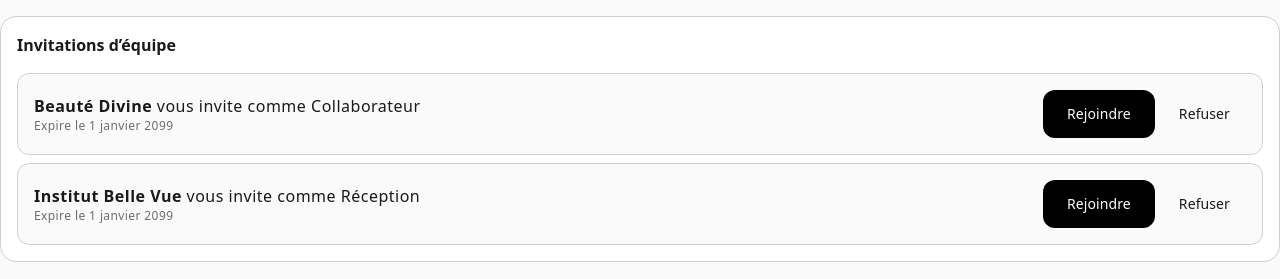
it: ProInvitationsCard › accept 404 not_found removes that card only; the others stay
Click the button "Rejoindre" in the row of "Beauté Divine" at (1099, 114), box x1=1043 y1=90 x2=1155 y2=138
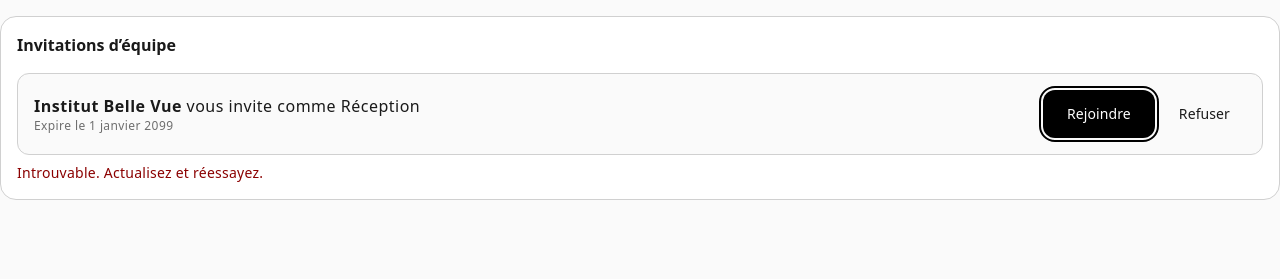
Check: the text "Institut Belle Vue vous invite comme Réception" is shown, box x1=34 y1=94 x2=420 y2=118
Check: the text "Introuvable. Actualisez et réessayez." is shown, box x1=17 y1=163 x2=263 y2=182
Check: the text "invite comme Collaborateur" is gone
